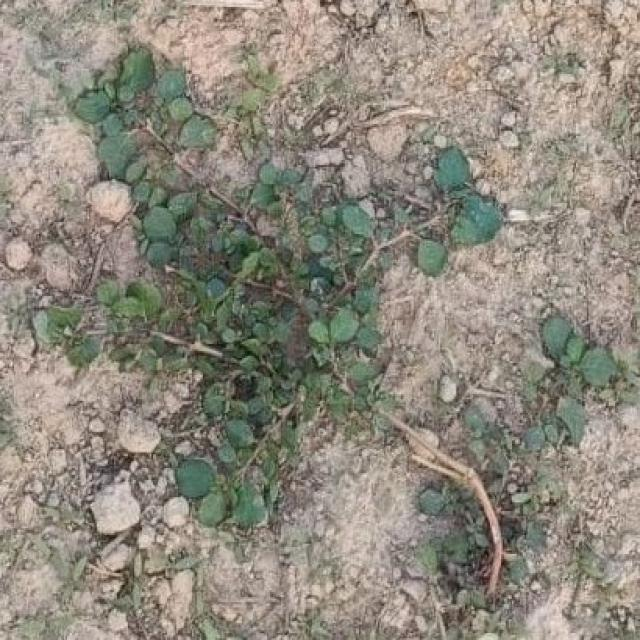weed: (73, 46, 512, 531), (523, 315, 621, 452), (423, 534, 512, 618)
